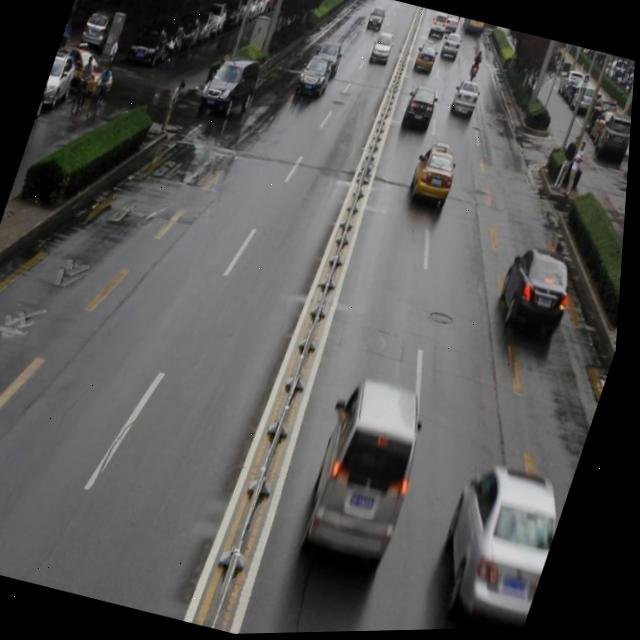car: (427, 456, 580, 632), (492, 244, 583, 343), (405, 141, 464, 212), (399, 87, 441, 135)
truck: (292, 373, 443, 577), (197, 52, 263, 123)
